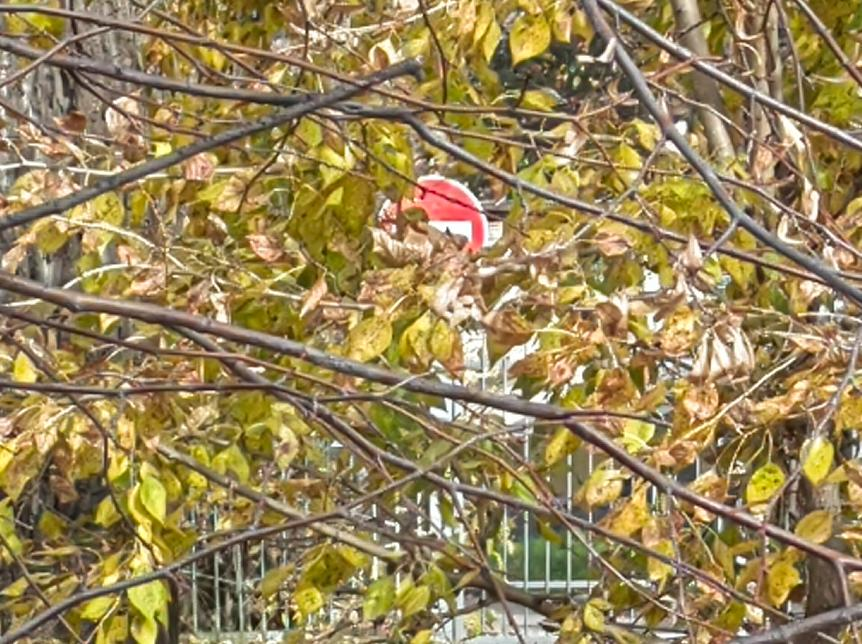obstructed_road_sign: (378, 178, 486, 251)
